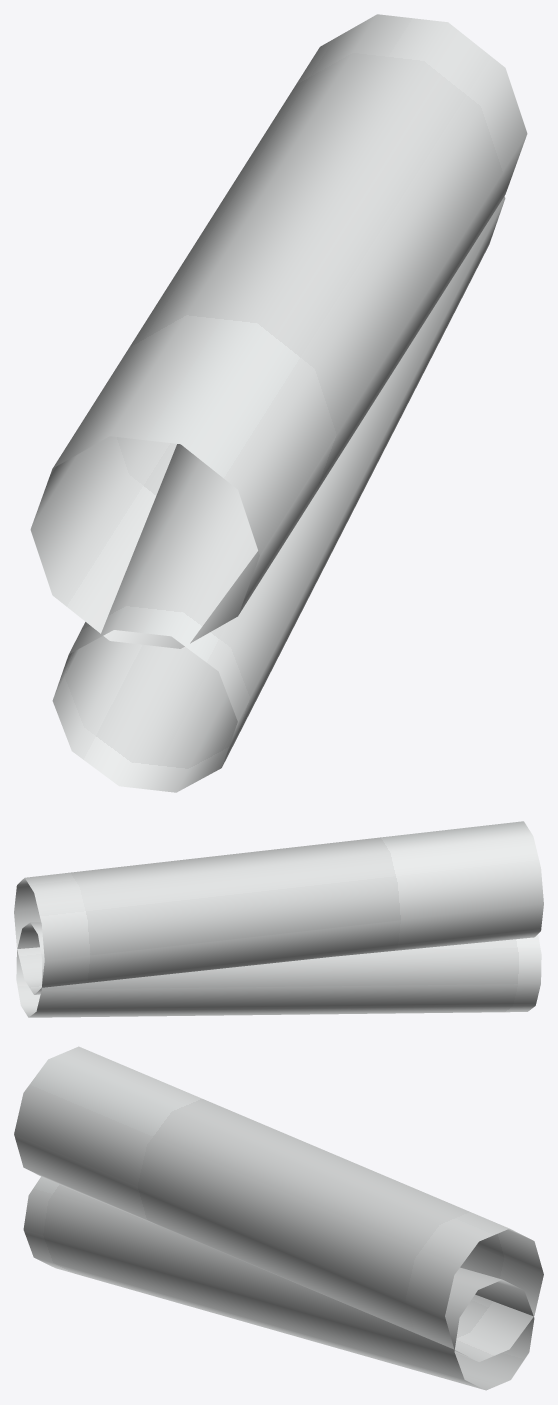
File: trusssignalarm_diagonal8_c11.obj
The picture shows the model from 3 angles, top to bottom: view 1: azimuth 30°, elevation 25°; view 2: azimuth 150°, elevation 25°; view 3: azimuth 270°, elevation 25°; orthographic projection. The views are drawn at different scales.
Visible parts, largest first — view 1: trusssignalarm_diagonal8_c11; view 2: trusssignalarm_diagonal8_c11; view 3: trusssignalarm_diagonal8_c11.
Boxes of the visible parts, box(x1,y1,x2,y2) form: trusssignalarm_diagonal8_c11: box(30, 14, 527, 792); trusssignalarm_diagonal8_c11: box(14, 821, 543, 1017); trusssignalarm_diagonal8_c11: box(14, 1046, 543, 1390).
Bounding box in the file's own units: 1.23 × 0.5333 × 1.23.
